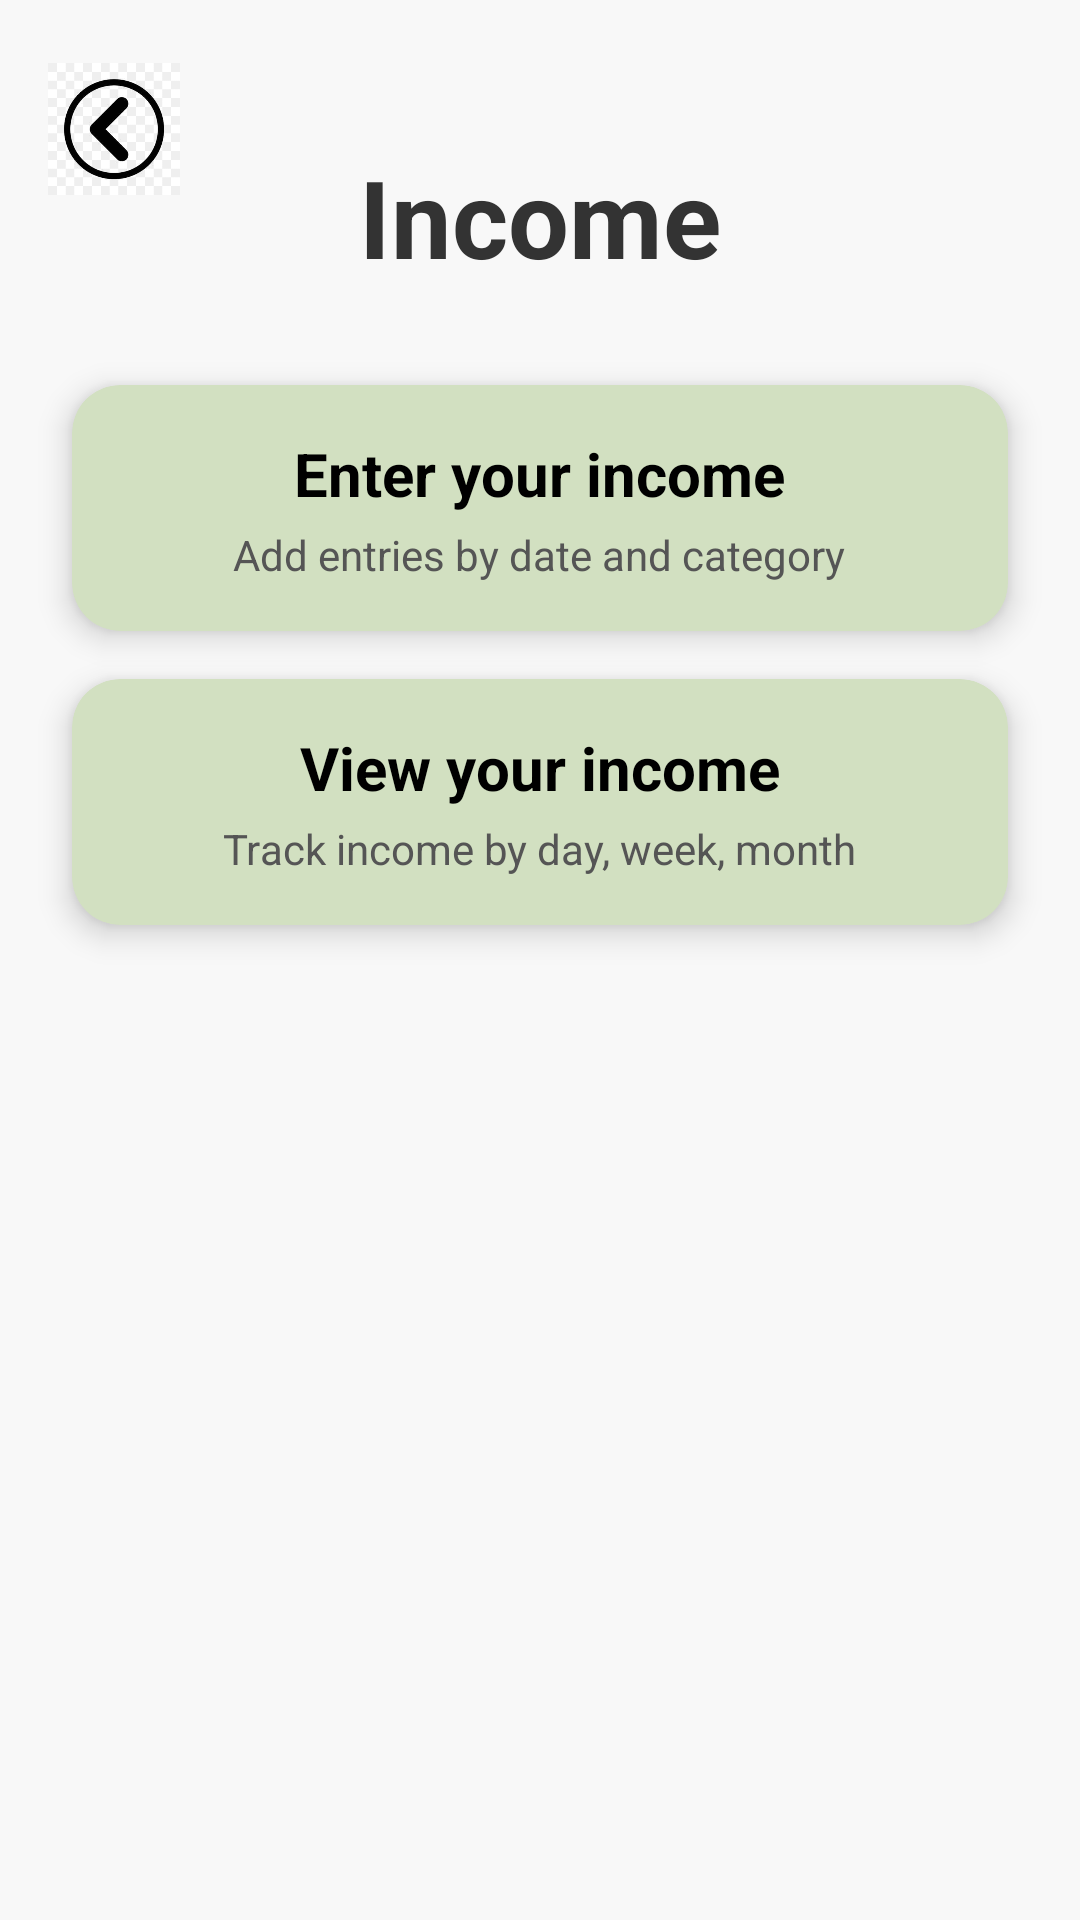

Screen size 1080 × 1920. Icon name, then its center in pixels as [x,y]:
back: [114,129]
